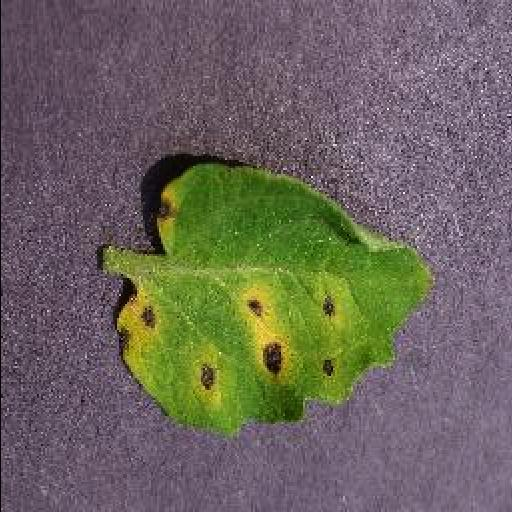disease_tomato: (114, 164, 430, 434)
